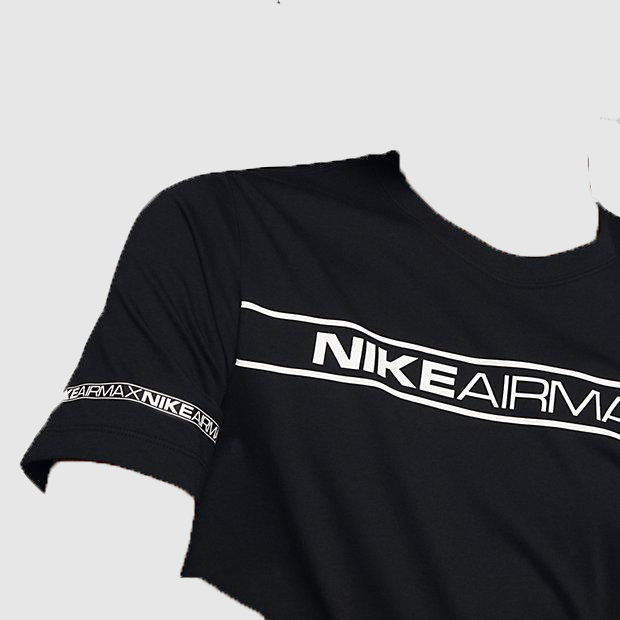teeshirt: (17, 145, 619, 620)
